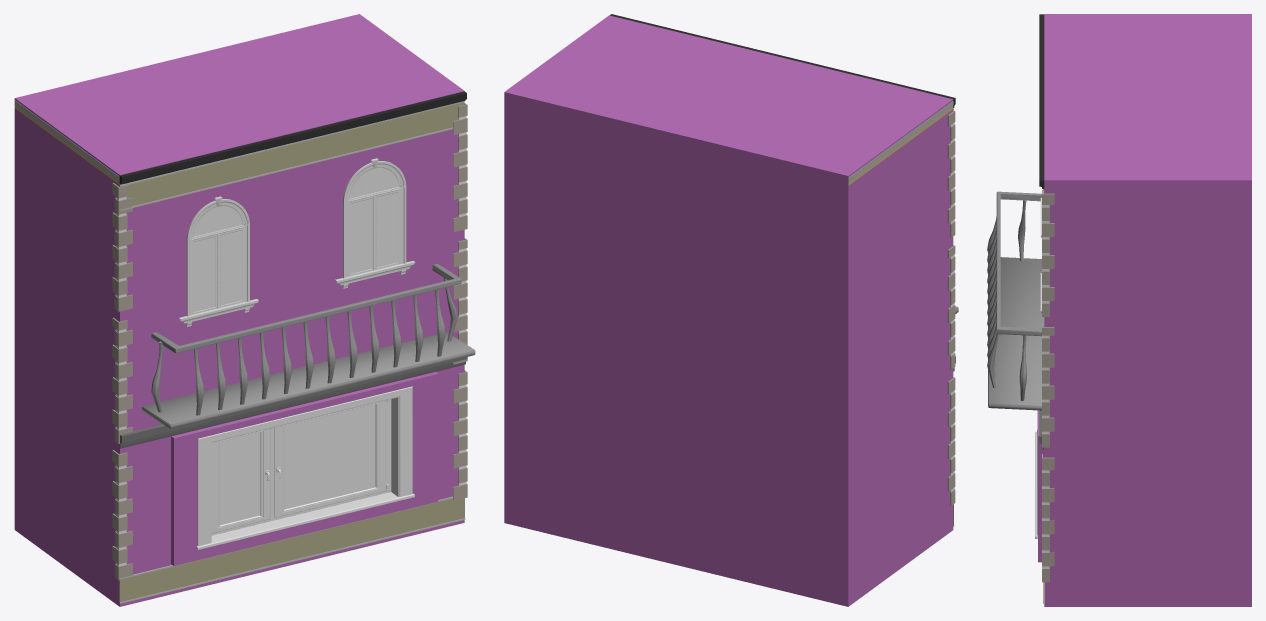
The model's file is last_build_3.fbx.
3 views of the same model, side by side, from view 1: azimuth 30°, elevation 25°; view 2: azimuth 150°, elevation 25°; view 3: azimuth 270°, elevation 25° (orthographic).
Visible parts, largest first — view 1: building_3; view 2: building_3; view 3: building_3.
Part boxes in pixels (bbox=[...]): building_3: bbox=[14, 14, 475, 606]; building_3: bbox=[504, 14, 958, 606]; building_3: bbox=[987, 14, 1251, 606].
Bounding box in the file's own units: 67.5 × 80 × 45.
